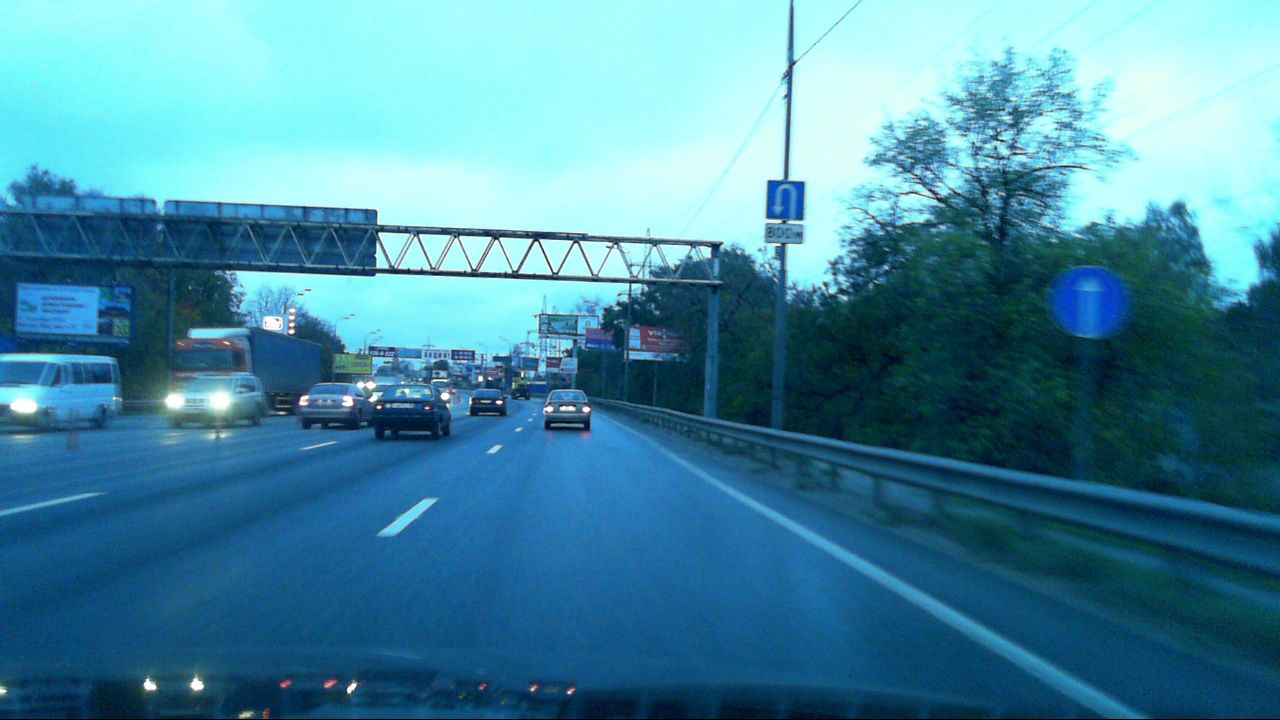U-turn: (766, 180, 805, 221)
